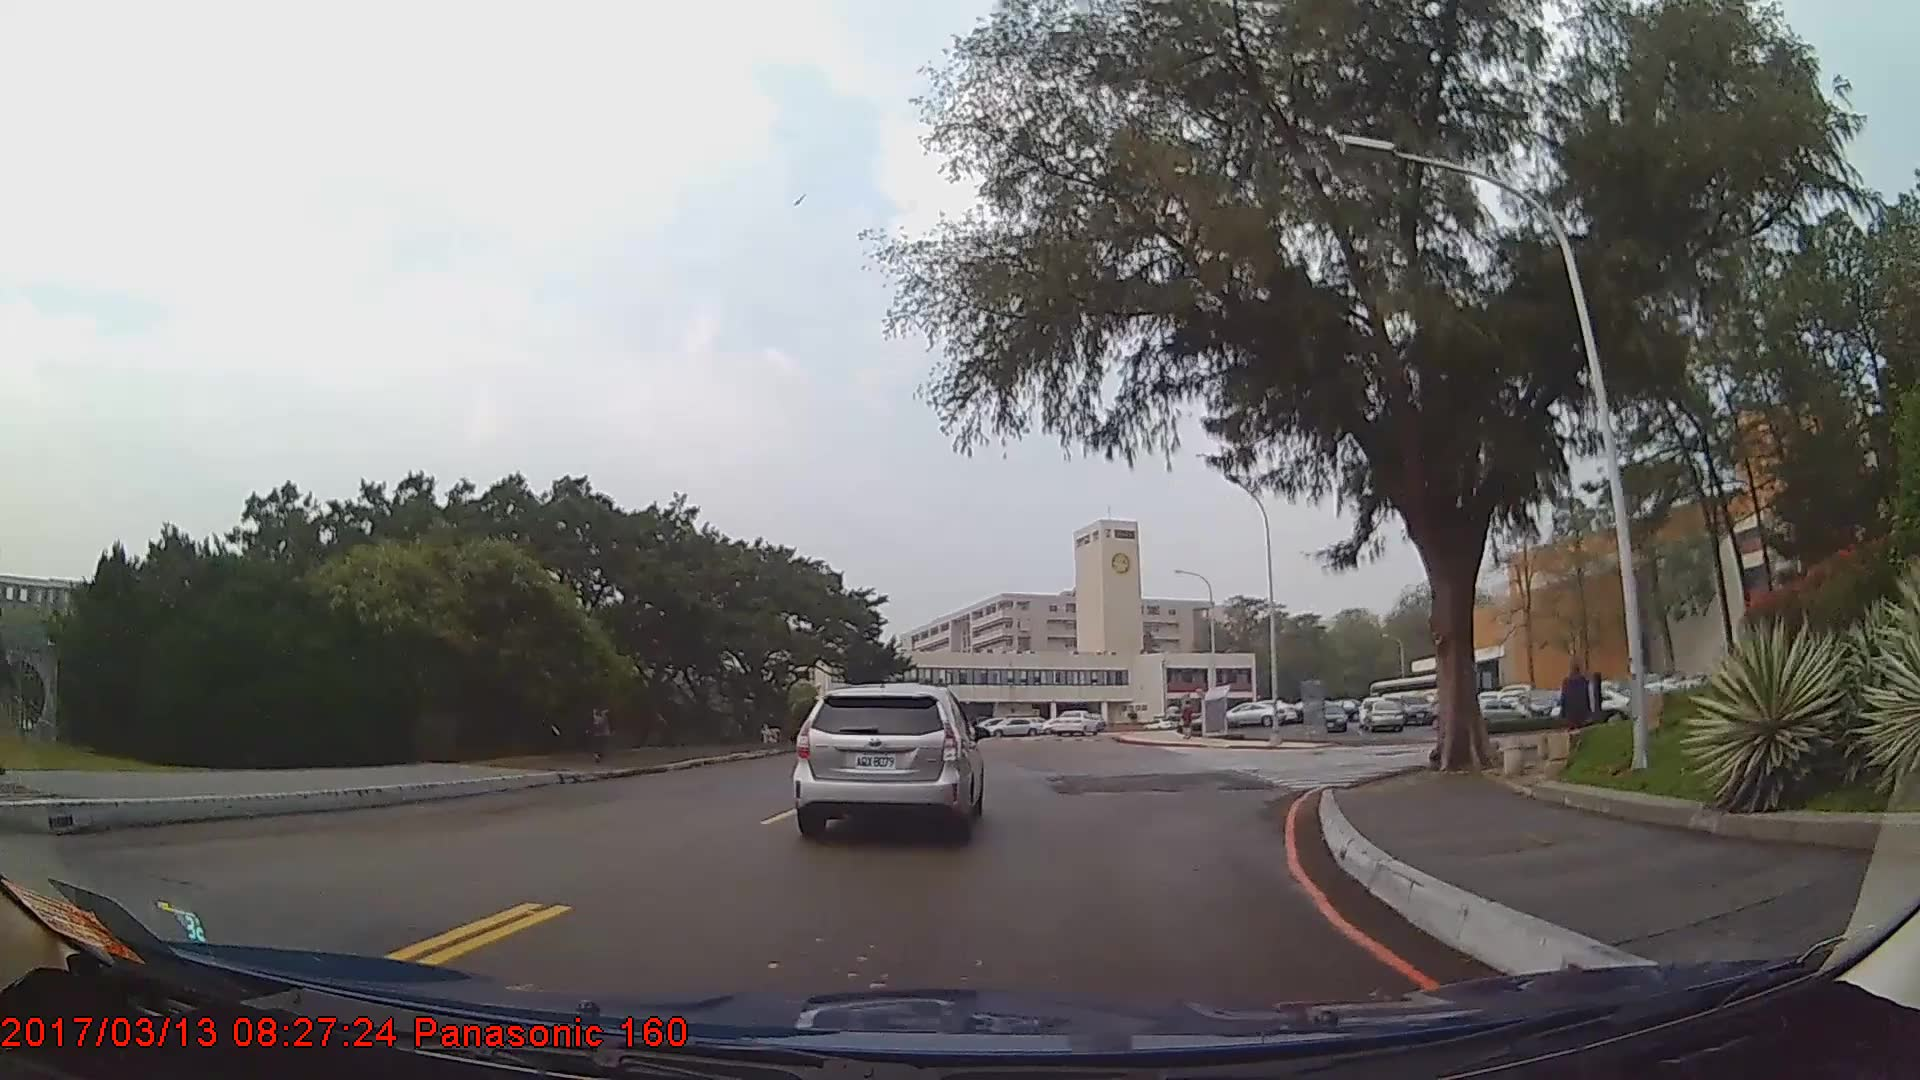pedestrian: (1559, 654, 1595, 769)
vehicle: (795, 678, 985, 841), (1458, 694, 1535, 727), (1216, 702, 1285, 727), (1364, 699, 1406, 735), (1053, 709, 1100, 737), (983, 718, 1041, 739), (1315, 703, 1351, 735), (1397, 691, 1434, 722)
